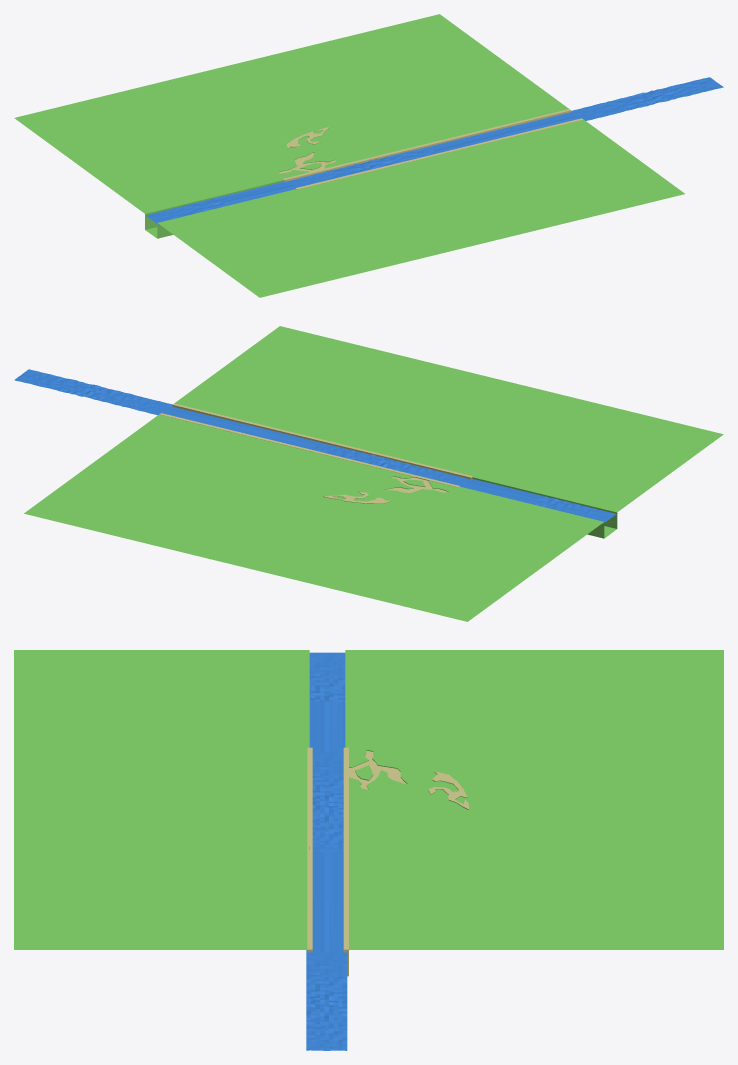
File: ground.fbx
The picture shows the model from 3 angles, top to bottom: view 1: azimuth 30°, elevation 25°; view 2: azimuth 150°, elevation 25°; view 3: azimuth 270°, elevation 25°; orthographic projection. The views are drawn at different scales.
Parts seen in each view (by area): view 1: ground; view 2: ground; view 3: ground.
Boxes of the visible parts, bbox=[...] form: ground: bbox=[14, 14, 723, 297]; ground: bbox=[14, 326, 723, 621]; ground: bbox=[14, 650, 723, 1050].
Bounding box in the file's own units: 159358 × 5030 × 120000.
